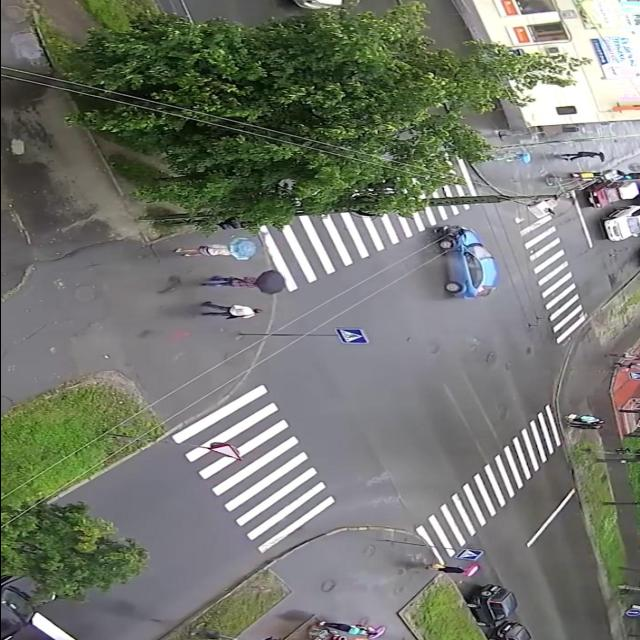accident: (424, 217, 504, 303)
